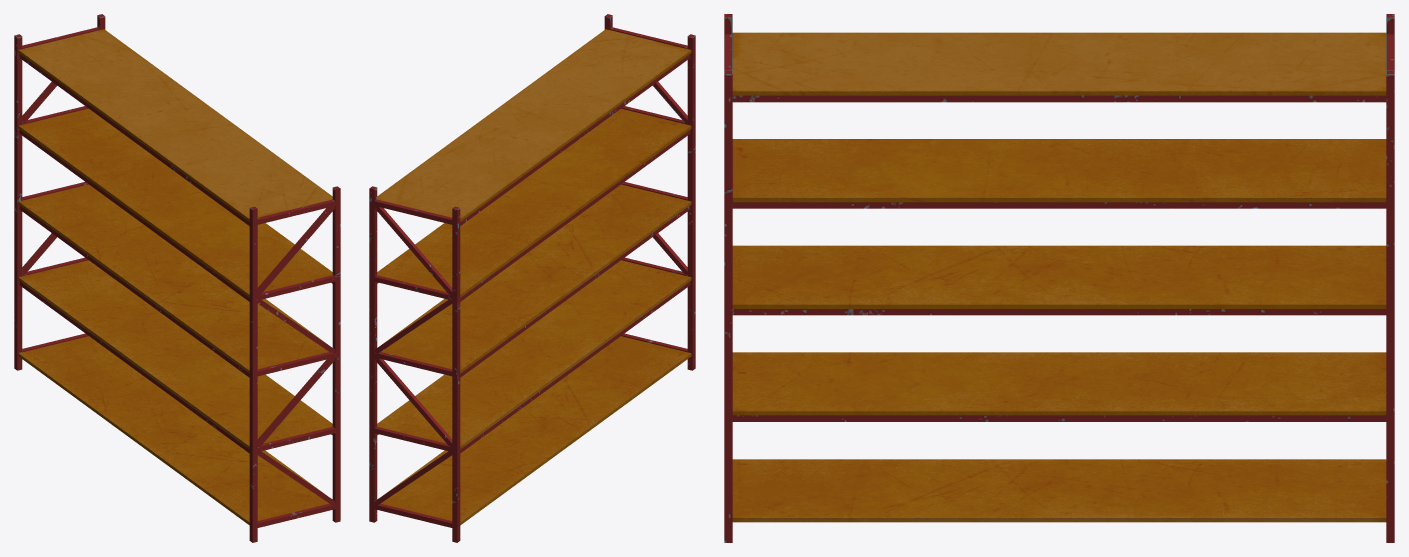
File: Shelf.fbx
3 renders of one model, left to right at view 1: azimuth 30°, elevation 25°; view 2: azimuth 150°, elevation 25°; view 3: azimuth 270°, elevation 25°, orthographic. The views are drawn at different scales.
Parts seen in each view (by area): view 1: Cube.067, Cube.068, Cube.070, Cube.069, Cube.071, Cube.043, Cube.072; view 2: Cube.067, Cube.068, Cube.070, Cube.069, Cube.071, Cube.072, Cube.043; view 3: Cube.067, Cube.069, Cube.068, Cube.070, Cube.071, Cube.043, Cube.072.
Part boxes in pixels (left/top/right/bottom): Cube.067: left=18, top=29, right=332, bottom=225; Cube.068: left=18, top=108, right=332, bottom=301; Cube.070: left=18, top=260, right=332, bottom=453; Cube.069: left=18, top=184, right=328, bottom=377; Cube.071: left=18, top=336, right=328, bottom=525; Cube.043: left=249, top=186, right=340, bottom=542; Cube.072: left=14, top=14, right=105, bottom=370; Cube.067: left=377, top=29, right=691, bottom=225; Cube.068: left=377, top=108, right=691, bottom=301; Cube.070: left=377, top=260, right=691, bottom=453; Cube.069: left=381, top=184, right=691, bottom=377; Cube.071: left=381, top=336, right=691, bottom=525; Cube.072: left=369, top=186, right=460, bottom=542; Cube.043: left=604, top=14, right=695, bottom=370; Cube.067: left=732, top=32, right=1386, bottom=102; Cube.069: left=732, top=245, right=1386, bottom=315; Cube.068: left=732, top=139, right=1386, bottom=208; Cube.070: left=732, top=352, right=1386, bottom=421; Cube.071: left=732, top=459, right=1386, bottom=522; Cube.043: left=724, top=14, right=732, bottom=542; Cube.072: left=1386, top=14, right=1394, bottom=542.
Bounding box in the file's own units: 109 × 395 × 512.
Materials: 1 (1 with a texture image).
